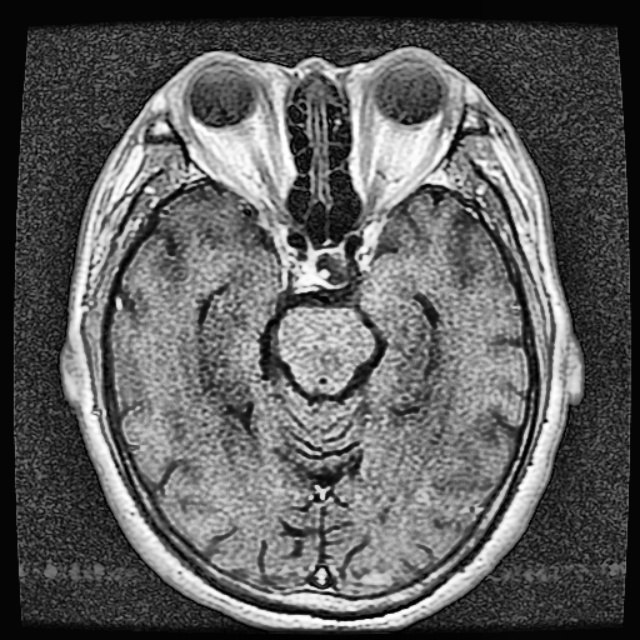Pituitary: (303, 247, 355, 289)
